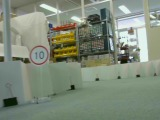speed_10: (28, 44, 50, 65)
